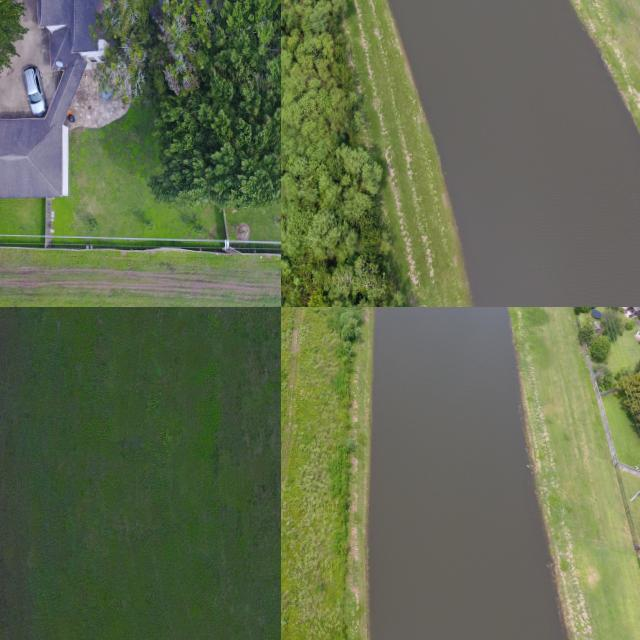fire: (388, 0, 640, 307), (369, 307, 566, 640)
